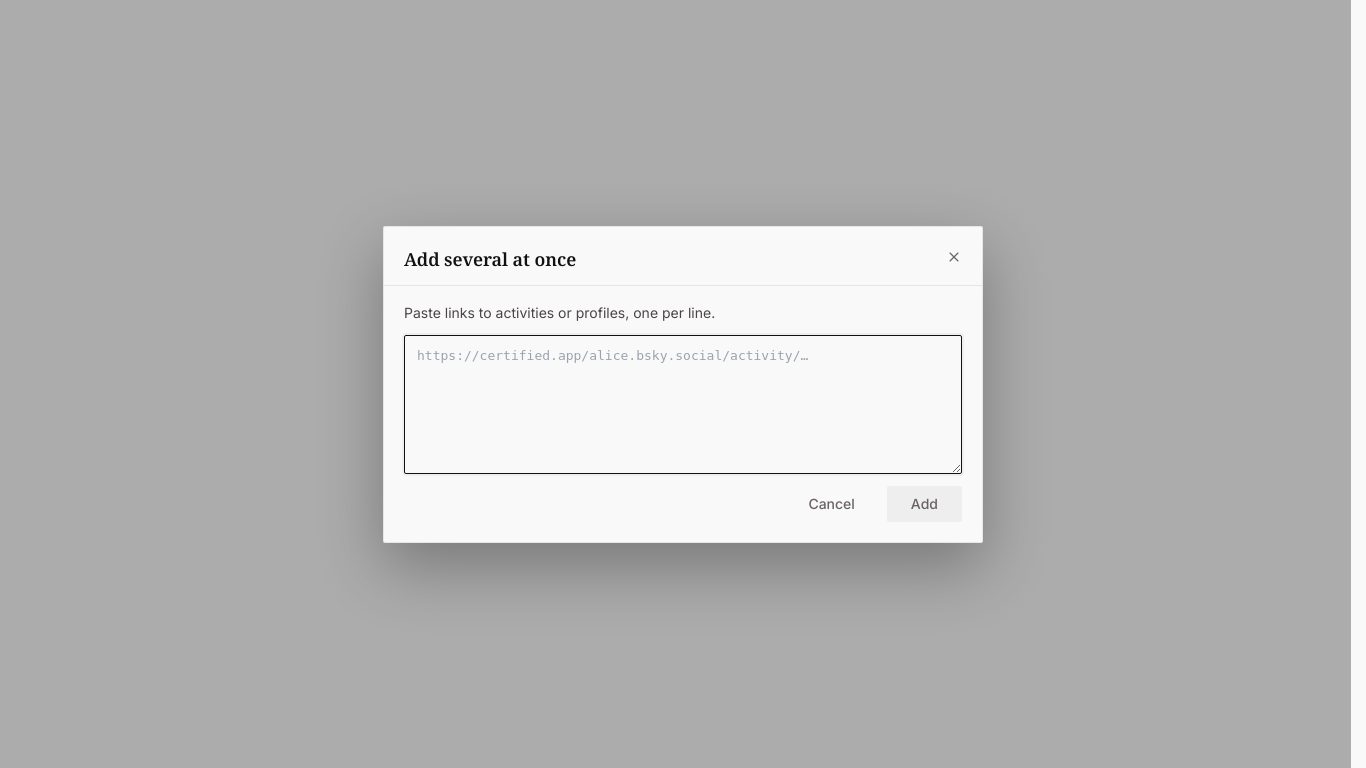
Test: PasteUrisModal › reports a malformed link as a row error instead of staying stuck
# Bad percent-encoding makes decodeURIComponent throw URIError.
Type "https://certified.app/%zz/activity/abc" into the text box. click: (683, 404)
box: [404,334,962,474]
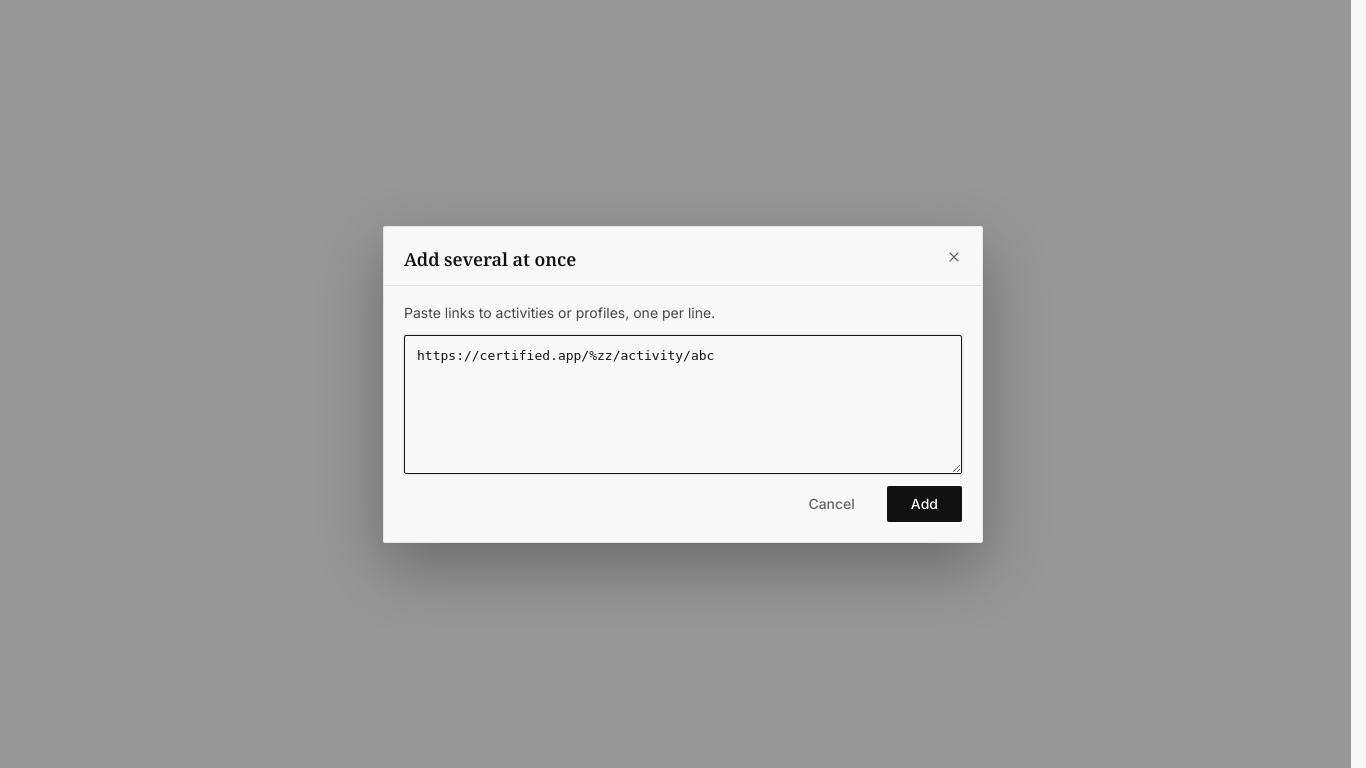
Click the button "Add". click: (924, 504)
box: [887,486,962,522]
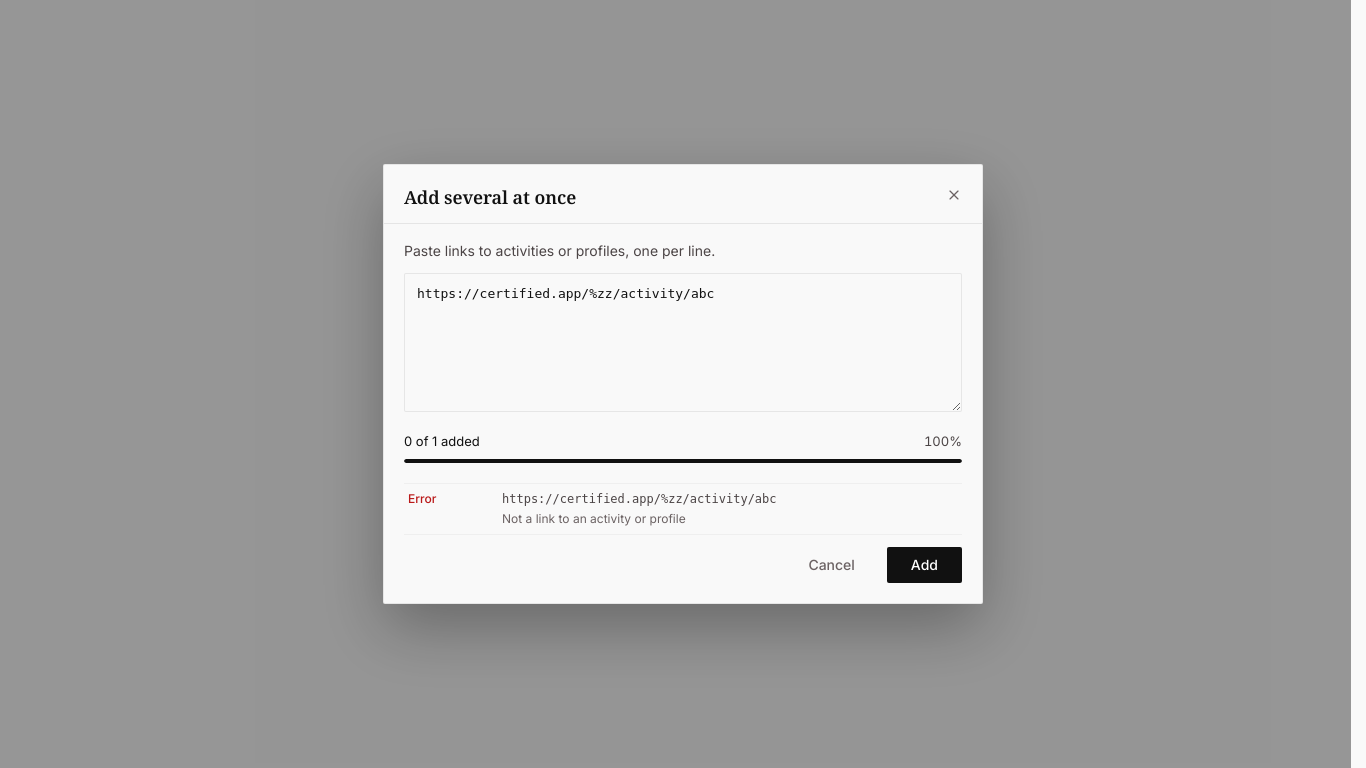
Now the button "Add" is enabled, box [887,547,962,583]
Now the text "Not a link to an activity or profile" is shown, box [502,511,686,526]
